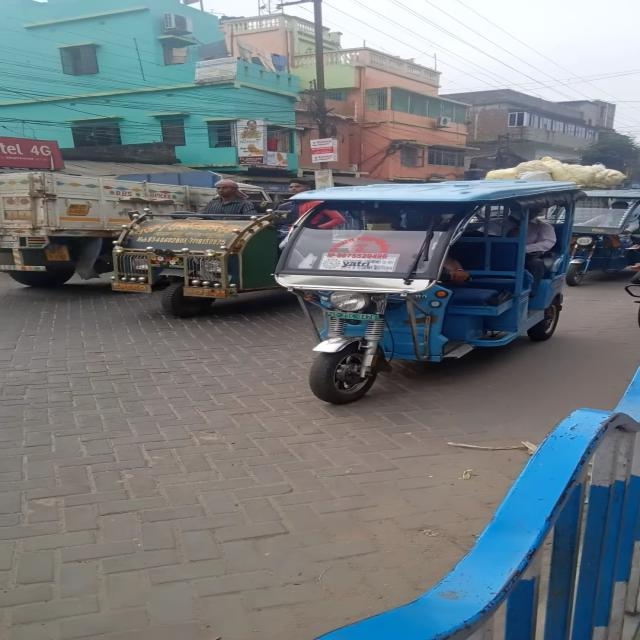Toto: (264, 166, 604, 416)
